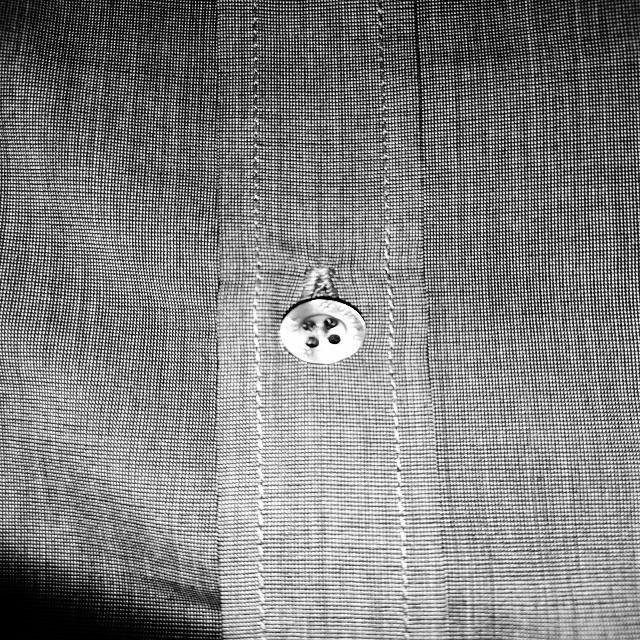Button_hike: (282, 264, 374, 376)
